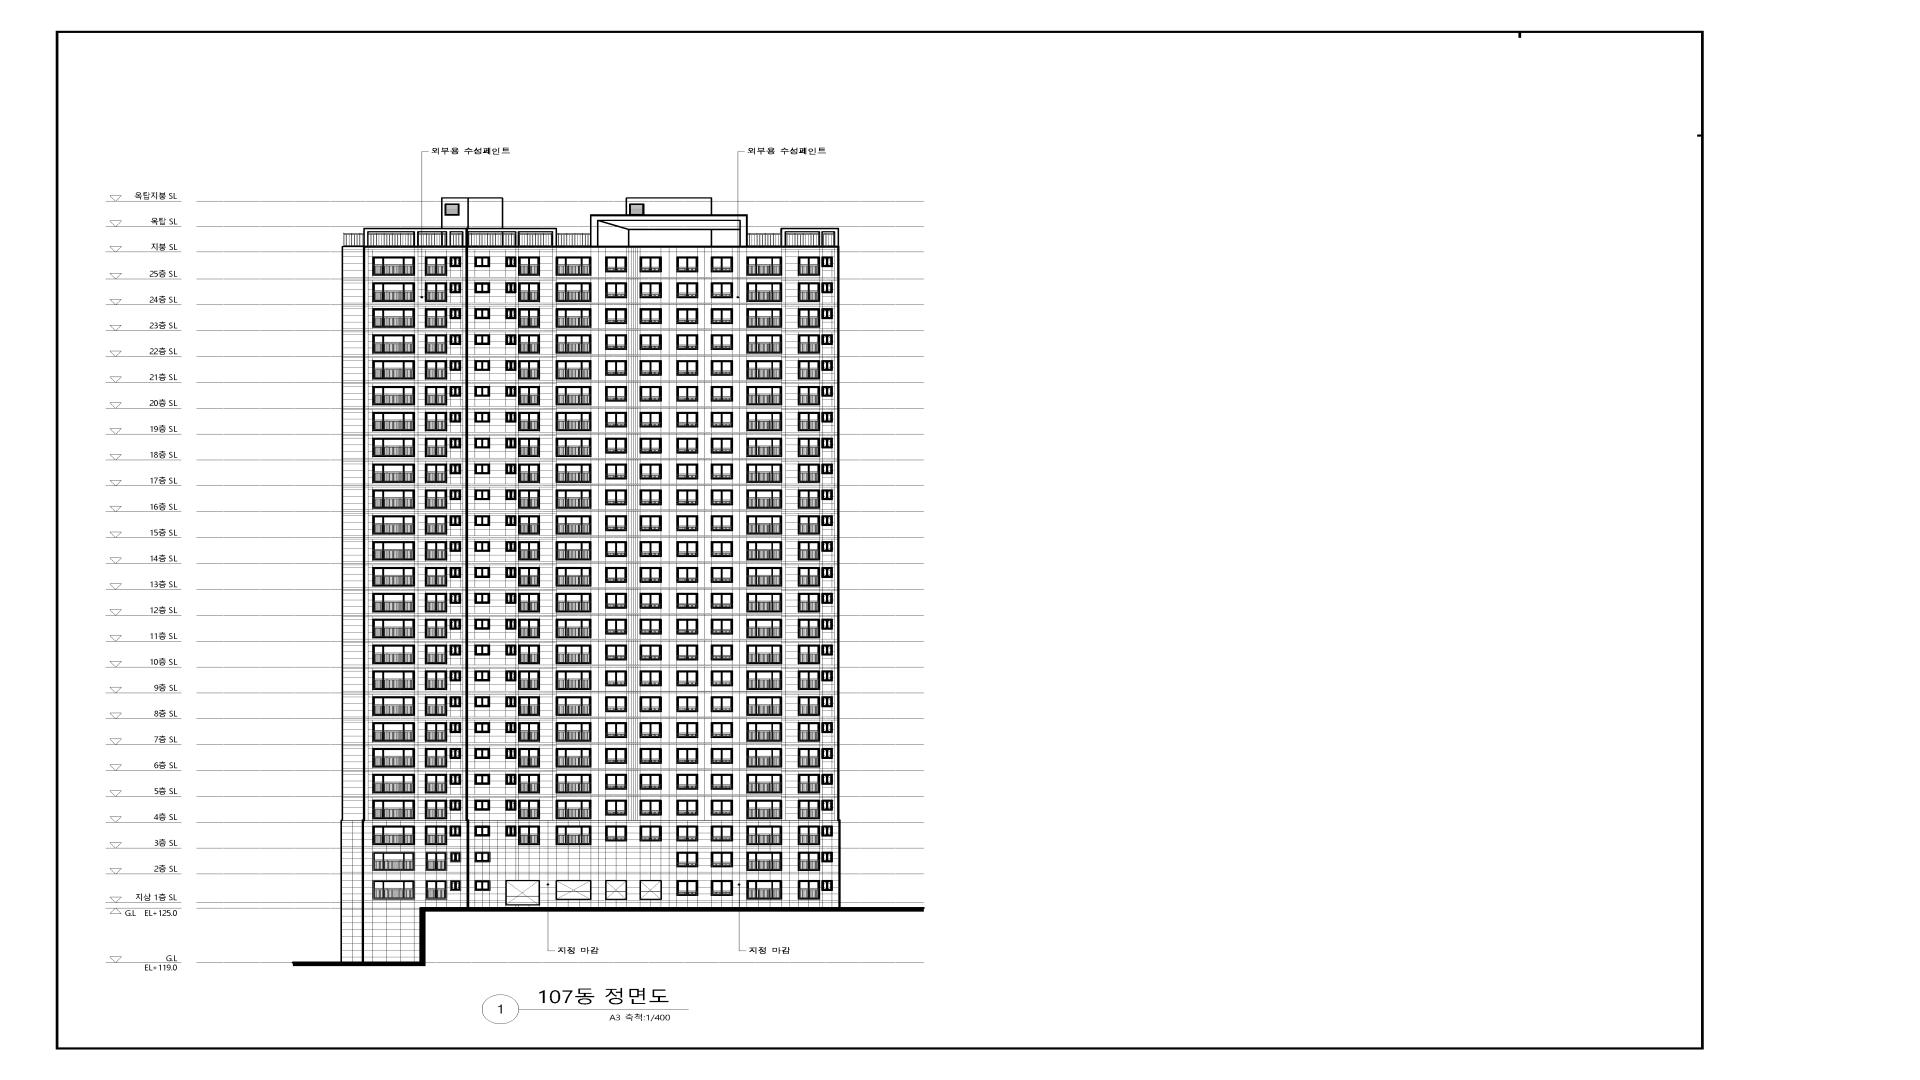door: (505, 880, 540, 906), (556, 880, 592, 900), (639, 880, 662, 900), (605, 880, 627, 900)
wall: (340, 197, 840, 966)
window: (372, 880, 415, 900), (372, 722, 415, 742), (372, 593, 415, 613), (372, 541, 415, 561), (372, 386, 415, 406), (372, 360, 415, 380), (372, 334, 415, 354), (372, 308, 415, 328), (372, 852, 415, 871), (372, 826, 415, 845), (372, 800, 415, 819), (372, 774, 415, 793), (372, 748, 415, 767), (372, 697, 415, 716), (372, 671, 415, 690), (372, 645, 415, 664), (372, 619, 415, 638), (372, 567, 415, 586), (372, 515, 415, 534), (372, 490, 415, 509), (372, 464, 415, 483), (372, 438, 415, 457), (372, 412, 415, 431), (372, 283, 415, 302), (372, 257, 415, 276), (555, 722, 592, 742), (555, 670, 592, 690), (556, 567, 592, 587), (555, 541, 591, 561), (555, 515, 591, 535), (555, 489, 591, 509), (555, 463, 591, 483), (555, 360, 591, 380), (555, 334, 591, 354), (556, 308, 592, 328), (555, 282, 591, 302), (555, 256, 591, 276), (746, 880, 782, 900), (746, 748, 782, 768), (746, 722, 782, 742), (746, 696, 782, 716), (746, 670, 782, 690), (746, 593, 782, 613), (746, 541, 782, 561), (746, 515, 782, 535), (746, 489, 782, 509), (746, 463, 782, 483), (746, 360, 782, 380), (746, 334, 782, 354), (746, 308, 782, 328), (746, 282, 782, 302), (555, 826, 592, 845), (555, 774, 592, 793), (555, 748, 592, 767), (555, 645, 592, 664), (556, 800, 592, 819), (555, 697, 591, 716), (556, 619, 592, 638), (555, 593, 591, 612), (555, 438, 591, 457), (556, 412, 592, 431), (555, 386, 591, 405), (746, 852, 782, 871), (746, 826, 782, 845), (746, 800, 782, 819), (746, 774, 782, 793), (746, 645, 782, 664), (746, 619, 782, 638), (746, 567, 782, 586), (746, 438, 782, 457), (746, 412, 782, 431), (746, 386, 782, 405), (746, 257, 782, 276), (798, 360, 820, 380), (798, 334, 820, 354), (798, 308, 820, 328), (425, 880, 447, 900), (425, 748, 447, 768), (425, 696, 447, 716), (425, 670, 447, 690), (425, 567, 447, 587), (425, 541, 447, 561), (425, 515, 447, 535), (425, 489, 447, 509), (425, 360, 447, 380), (425, 334, 447, 354), (425, 282, 447, 302), (425, 256, 447, 276), (518, 774, 540, 794), (518, 722, 540, 742), (518, 593, 540, 613), (518, 567, 540, 587), (518, 541, 540, 561), (518, 515, 540, 535), (518, 489, 540, 509), (518, 463, 540, 483), (518, 360, 540, 380), (518, 334, 540, 354), (518, 308, 540, 328), (518, 282, 540, 302), (518, 256, 540, 276), (798, 880, 820, 900), (798, 696, 820, 716), (798, 670, 820, 690), (798, 593, 820, 613), (798, 567, 820, 587), (798, 489, 819, 509), (798, 256, 819, 276), (425, 722, 446, 742), (425, 308, 446, 328), (798, 748, 819, 768), (798, 722, 819, 742), (798, 515, 819, 535), (798, 438, 820, 457), (798, 386, 820, 405), (798, 283, 820, 302), (425, 852, 447, 871), (425, 800, 447, 819), (425, 774, 447, 793), (425, 619, 447, 638), (425, 593, 447, 612), (425, 438, 447, 457), (425, 386, 447, 405), (518, 826, 540, 845), (518, 800, 540, 819), (518, 748, 540, 767), (518, 697, 540, 716), (518, 671, 540, 690), (518, 645, 540, 664), (518, 619, 540, 638), (518, 438, 540, 457), (518, 412, 540, 431), (518, 386, 540, 405), (798, 826, 820, 845), (798, 774, 820, 793), (798, 464, 819, 483), (798, 412, 819, 431), (425, 826, 446, 845), (425, 645, 446, 664), (425, 464, 446, 483), (425, 412, 446, 431), (798, 852, 819, 871), (798, 800, 819, 819), (798, 645, 819, 664), (798, 619, 819, 638), (798, 541, 819, 560), (639, 360, 661, 376), (639, 334, 661, 350), (639, 308, 661, 324), (639, 282, 661, 298), (640, 256, 662, 272), (676, 880, 698, 896), (676, 852, 698, 868), (676, 800, 698, 816), (676, 774, 698, 790), (676, 748, 698, 764), (676, 722, 698, 738), (676, 696, 698, 712), (676, 670, 698, 686), (676, 645, 698, 661), (676, 619, 698, 635), (676, 593, 698, 609), (676, 567, 698, 583), (676, 541, 698, 557), (676, 515, 698, 531), (676, 489, 698, 505), (676, 438, 698, 454), (676, 412, 698, 428), (676, 386, 698, 402), (676, 360, 698, 376), (676, 334, 698, 350), (676, 308, 698, 324), (676, 282, 698, 298), (711, 880, 733, 896), (711, 851, 733, 867), (711, 826, 733, 842), (605, 826, 627, 842), (605, 800, 627, 816), (605, 774, 627, 790), (605, 748, 627, 764), (605, 722, 627, 738), (605, 696, 627, 712), (605, 670, 627, 686), (605, 644, 627, 660), (711, 800, 733, 816), (711, 774, 733, 790), (711, 748, 733, 764), (711, 722, 733, 738), (711, 696, 733, 712), (711, 645, 733, 661), (711, 619, 733, 635), (711, 593, 733, 609), (711, 567, 733, 583), (711, 541, 733, 557), (711, 515, 733, 531), (711, 489, 733, 505), (710, 464, 732, 480), (711, 438, 733, 454), (711, 412, 733, 428), (711, 360, 733, 376), (711, 334, 733, 350), (711, 308, 733, 324), (711, 282, 733, 298), (711, 256, 733, 272), (605, 619, 627, 635), (605, 593, 627, 609), (605, 567, 627, 583), (605, 541, 627, 557), (605, 515, 627, 531), (605, 489, 627, 505), (605, 438, 627, 454), (605, 412, 627, 428), (605, 386, 627, 402), (605, 360, 627, 376), (605, 334, 627, 350), (605, 308, 627, 324), (605, 282, 627, 298), (605, 257, 627, 273), (639, 825, 661, 841), (640, 748, 662, 764), (640, 722, 662, 738), (639, 696, 661, 712), (639, 670, 661, 686), (640, 644, 662, 660), (639, 567, 661, 583), (640, 515, 662, 531), (639, 463, 661, 479), (639, 438, 661, 454), (639, 412, 661, 428), (711, 386, 732, 402), (640, 774, 661, 790), (640, 619, 661, 635), (640, 593, 661, 609), (640, 541, 661, 557), (640, 386, 661, 402), (676, 826, 698, 841), (676, 464, 698, 479), (676, 257, 698, 272), (605, 464, 627, 479), (640, 490, 662, 505), (711, 671, 732, 686), (640, 800, 661, 815), (444, 203, 460, 216), (474, 851, 491, 863), (474, 825, 490, 837), (474, 799, 490, 811), (474, 670, 490, 682), (474, 880, 491, 891), (474, 774, 490, 785), (474, 748, 490, 759), (474, 722, 490, 733), (474, 696, 490, 707), (474, 644, 490, 655), (474, 619, 490, 630), (474, 593, 490, 604), (474, 567, 490, 578), (474, 541, 490, 552), (474, 515, 490, 526), (474, 489, 490, 500), (474, 463, 490, 474), (474, 438, 490, 449), (474, 412, 490, 423), (474, 386, 490, 397), (474, 360, 490, 371), (474, 334, 490, 345), (474, 308, 490, 319), (474, 282, 490, 293), (474, 256, 490, 267), (629, 203, 644, 214), (449, 774, 461, 785), (449, 282, 461, 293), (505, 774, 517, 785), (505, 308, 517, 319), (821, 880, 833, 891), (821, 852, 833, 863), (821, 826, 833, 837), (821, 800, 833, 811), (821, 774, 833, 785), (821, 748, 833, 759), (821, 722, 833, 733), (821, 696, 833, 707), (821, 670, 833, 681), (821, 645, 833, 656), (821, 619, 833, 630), (821, 593, 833, 604), (821, 567, 833, 578), (821, 541, 833, 552), (821, 515, 833, 526), (821, 489, 833, 500), (821, 438, 833, 449), (821, 412, 833, 423), (821, 386, 833, 397), (821, 360, 833, 371), (821, 334, 833, 345), (821, 308, 833, 319), (821, 282, 833, 293), (821, 256, 833, 267), (450, 852, 461, 863), (450, 800, 461, 811), (450, 748, 461, 759), (450, 722, 461, 733), (450, 696, 461, 707), (450, 670, 461, 681), (450, 619, 461, 630), (450, 593, 461, 604), (450, 567, 461, 578), (450, 541, 461, 552), (450, 515, 461, 526), (450, 489, 461, 500), (450, 463, 461, 474), (450, 412, 461, 423), (450, 386, 461, 397), (450, 360, 461, 371), (450, 334, 461, 345), (450, 308, 461, 319), (450, 256, 461, 267), (505, 826, 516, 837), (505, 800, 516, 811), (505, 748, 516, 759), (505, 722, 516, 733), (505, 696, 516, 707), (505, 670, 516, 681), (505, 619, 516, 630), (505, 593, 516, 604), (505, 567, 516, 578), (505, 541, 516, 552), (505, 515, 516, 526), (505, 489, 516, 500), (505, 438, 516, 449), (505, 412, 516, 423), (505, 386, 516, 397), (505, 360, 516, 371), (505, 334, 516, 345), (505, 282, 516, 293), (505, 256, 516, 267), (450, 880, 461, 891), (821, 464, 833, 474), (450, 826, 461, 836), (450, 645, 461, 655), (450, 438, 461, 448), (505, 645, 516, 655), (505, 464, 516, 474)
